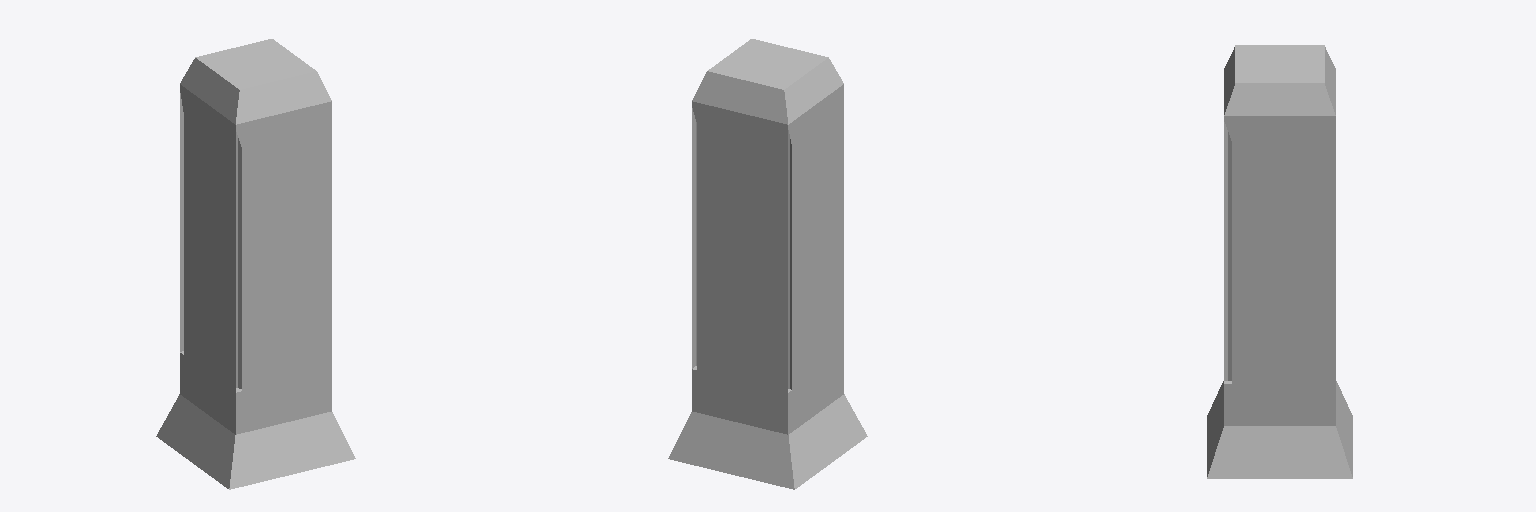
The model's file is GoalPostobj.obj.
The picture shows the model from 3 angles: view 1: azimuth 30°, elevation 25°; view 2: azimuth 150°, elevation 25°; view 3: azimuth 270°, elevation 25°; orthographic projection.
Visible parts, largest first — view 1: Cube_Cube.001; view 2: Cube_Cube.001; view 3: Cube_Cube.001.
Part boxes in pixels (x1,y1,x2,y2): Cube_Cube.001: (156, 39, 355, 489); Cube_Cube.001: (668, 39, 867, 489); Cube_Cube.001: (1207, 45, 1352, 478).
Bounding box in the file's own units: 2.62 × 7.58 × 2.62.